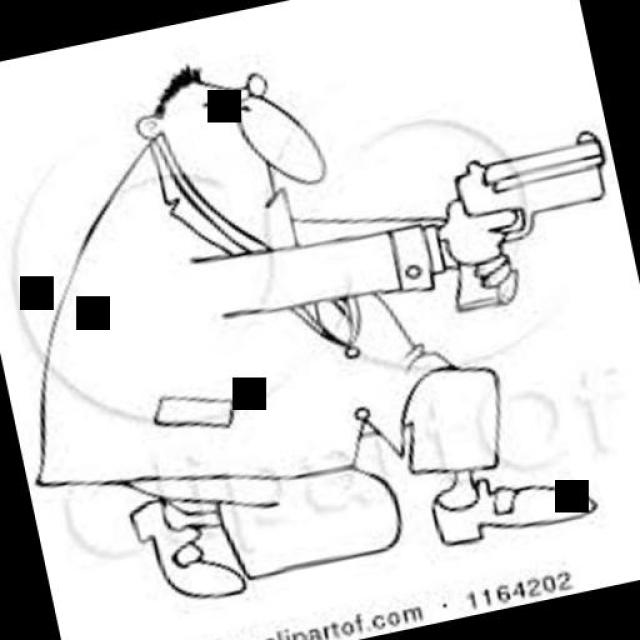gun: (412, 119, 630, 324)
